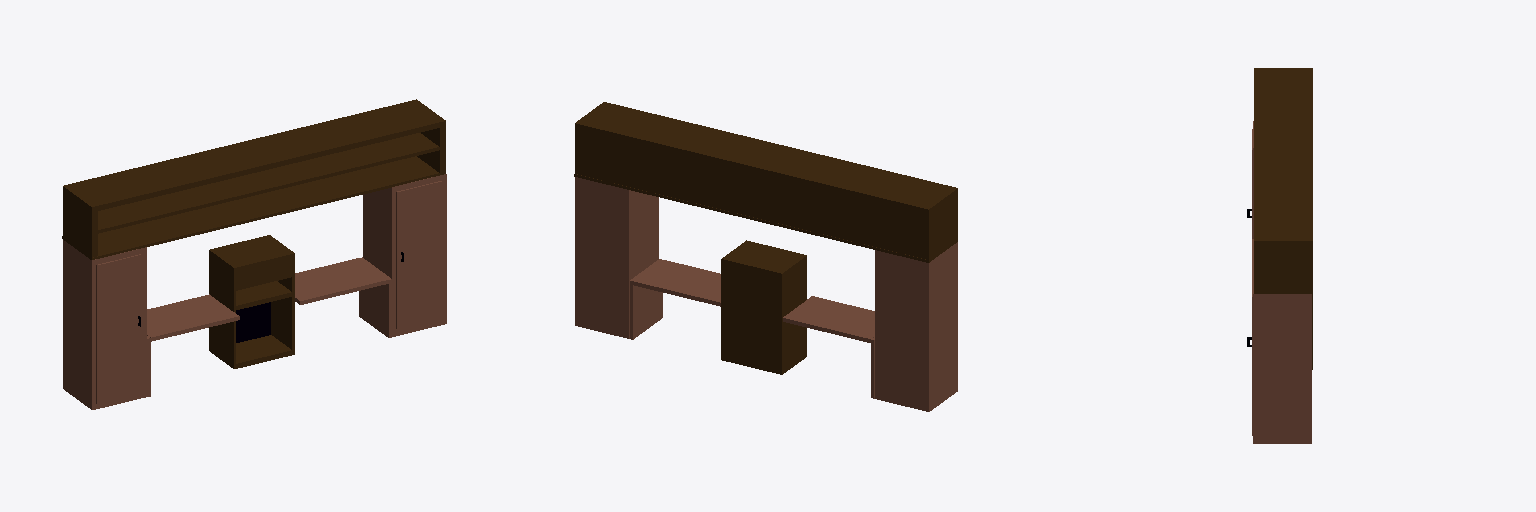
The model's file is biroucuousa.obj.
3 views of the same model, side by side, from view 1: azimuth 30°, elevation 25°; view 2: azimuth 150°, elevation 25°; view 3: azimuth 270°, elevation 25° (orthographic).
Parts seen in each view (by area): view 1: Cube.015_Cube.020, Cube.014_Cube.018, Cube, Cube.013_Cube.017, Cube.008_Cube.010, Cube.010_Cube.013, Cube.009_Cube.012, Cube.005_Cube.007, Cube.002, Cube.003_Cube.006, Cube.006_Cube.008, Cube.016_Cube.003; view 2: Cube.015_Cube.020, Cube.008_Cube.010, Cube.009_Cube.012, Cube, Cube.002, Cube.005_Cube.007, Cube.003_Cube.006, Cube.014_Cube.018; view 3: Cube.015_Cube.020, Cube.009_Cube.012.
Part boxes in pixels (left/top/right/bottom): Cube.015_Cube.020: left=63, top=99, right=445, bottom=257; Cube.014_Cube.018: left=62, top=156, right=445, bottom=259; Cube: left=209, top=235, right=294, bottom=368; Cube.013_Cube.017: left=396, top=181, right=441, bottom=330; Cube.008_Cube.010: left=63, top=240, right=146, bottom=409; Cube.010_Cube.013: left=96, top=254, right=140, bottom=403; Cube.009_Cube.012: left=363, top=174, right=446, bottom=336; Cube.005_Cube.007: left=295, top=258, right=388, bottom=304; Cube.002: left=147, top=294, right=239, bottom=341; Cube.003_Cube.006: left=359, top=257, right=391, bottom=337; Cube.006_Cube.008: left=236, top=302, right=270, bottom=342; Cube.016_Cube.003: left=236, top=259, right=291, bottom=287; Cube.015_Cube.020: left=575, top=102, right=957, bottom=259; Cube.008_Cube.010: left=875, top=242, right=957, bottom=411; Cube.009_Cube.012: left=575, top=177, right=658, bottom=338; Cube: left=721, top=240, right=806, bottom=374; Cube.002: left=783, top=296, right=874, bottom=342; Cube.005_Cube.007: left=633, top=260, right=720, bottom=306; Cube.003_Cube.006: left=630, top=259, right=662, bottom=339; Cube.014_Cube.018: left=574, top=174, right=957, bottom=262; Cube.015_Cube.020: left=1254, top=68, right=1312, bottom=291; Cube.009_Cube.012: left=1253, top=267, right=1311, bottom=443.
Bounding box in the file's own units: 16.99 × 9.3 × 2.74.